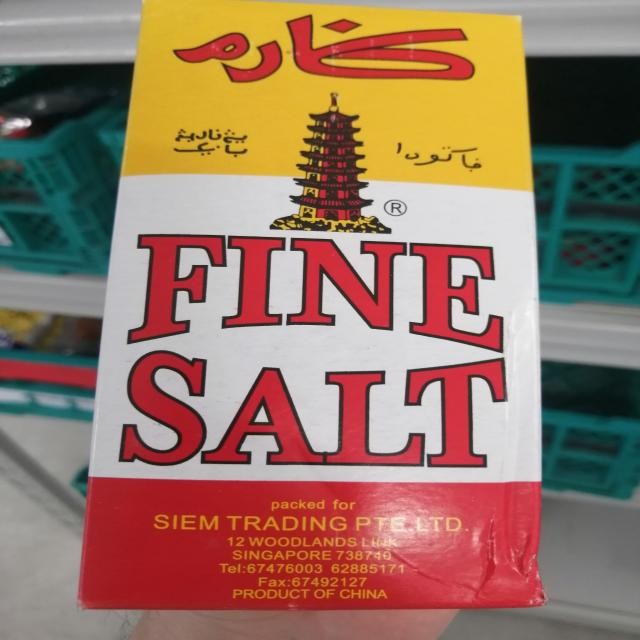object_name: (120, 2, 532, 597)
